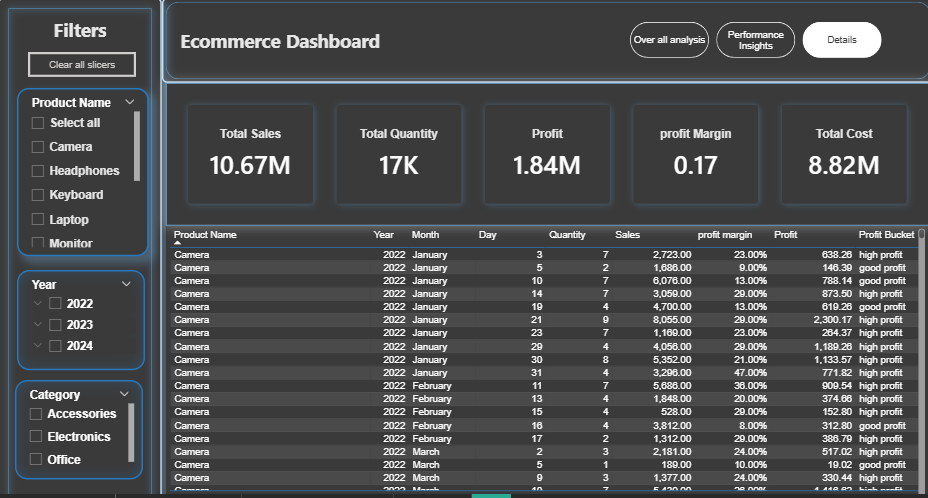

The dashboard page shown, as its layout file describes it:
{"tool":"powerbi","page":{"name":"Details ","canvas":[1280,720],"ordinal":2},"visuals":[{"type":"shape","title":"Filters","box":[0,0,224.3,705.7],"z":0},{"type":"shape","box":[224,0,1056,116.2],"z":1000},{"type":"slicer","fields":{"Values":["ecommerce_sales_data.Product Name"]},"box":[26.5,122.4,179.9,230],"z":2000},{"type":"slicer","fields":{"Values":["ecommerce_sales_data.Order Date.Variation.Date Hierarchy.Year","ecommerce_sales_data.Order Date.Variation.Date Hierarchy.Quarter","ecommerce_sales_data.Order Date.Variation.Date Hierarchy.Month","ecommerce_sales_data.Order Date.Variation.Date Hierarchy.Day"]},"box":[26.5,371.6,175.5,137.1],"z":3000},{"type":"slicer","fields":{"Values":["ecommerce_sales_data.Category"]},"box":[23.6,522,175.5,135.7],"z":4000},{"type":"tableEx","fields":{"Values":["ecommerce_sales_data.Product Name","ecommerce_sales_data.Order Date.Variation.Date Hierarchy.Year","ecommerce_sales_data.Order Date.Variation.Date Hierarchy.Month","ecommerce_sales_data.Order Date.Variation.Date Hierarchy.Day","Sum(ecommerce_sales_data.Quantity)","Sum(ecommerce_sales_data.Sales)","Sum(ecommerce_sales_data.profit margin )","Sum(ecommerce_sales_data.Profit)","ecommerce_sales_data.Profit Bucket"]},"box":[229.6,310.4,1043.3,395.5],"z":5000},{"type":"pageNavigator","box":[864.7,32.6,344.5,49.6],"z":6000},{"type":"cardVisual","fields":{"Data":["Sum(ecommerce_sales_data.Sales)","Sum(ecommerce_sales_data.Quantity)","Sum(ecommerce_sales_data.Profit)","ecommerce_sales_data.profit Margin","Sum(ecommerce_sales_data.cost)"]},"box":[229.9,115.7,1043.9,195.2],"z":7000},{"type":"actionButton","box":[40.4,73.2,147.7,34.1],"z":8000}]}

Visuals, with their boxes on the page's 1280x720 design canvas (x1, y1, x2, y2). These are canvas units, not pixel positions in the 928x498 screenshot, which may show the page scaled, cropped or inside an application window:
"Filters" shape: <region>0, 0, 224, 706</region>
shape: <region>224, 0, 1280, 116</region>
slicer - ecommerce_sales_data.Product Name: <region>26, 122, 206, 352</region>
slicer - ecommerce_sales_data.Order Date.Variation.Date Hierarchy.Year x ecommerce_sales_data.Order Date.Variation.Date Hierarchy.Quarter: <region>26, 372, 202, 509</region>
slicer - ecommerce_sales_data.Category: <region>24, 522, 199, 658</region>
tableEx - ecommerce_sales_data.Product Name x ecommerce_sales_data.Order Date.Variation.Date Hierarchy.Year: <region>230, 310, 1273, 706</region>
pageNavigator: <region>865, 33, 1209, 82</region>
cardVisual - Sum(ecommerce_sales_data.Sales) x Sum(ecommerce_sales_data.Quantity): <region>230, 116, 1274, 311</region>
actionButton: <region>40, 73, 188, 107</region>
